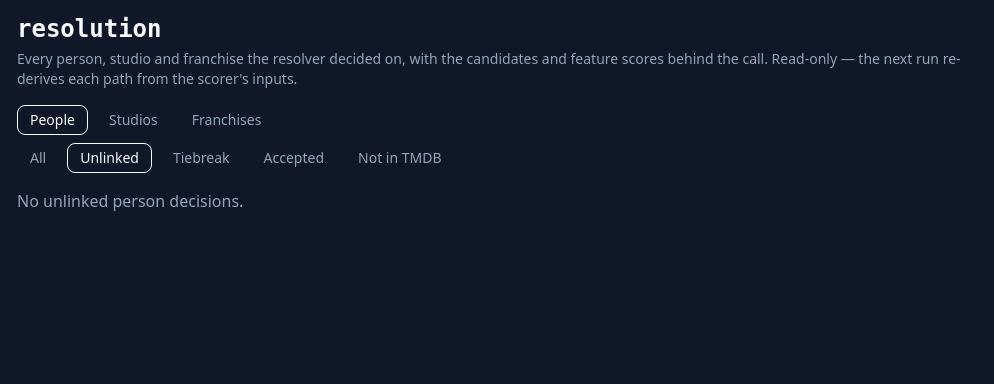
Scenario: AdminResolution › opens on the unlinked queue D-25 asks for, with a filter-aware empty state
The width and height of the screenshot is (994, 384).
Expected: the text "No unlinked person decisions." is shown, [17,190,243,212]
Click the tab "All". click: (38, 158)
box: [17,143,59,173]
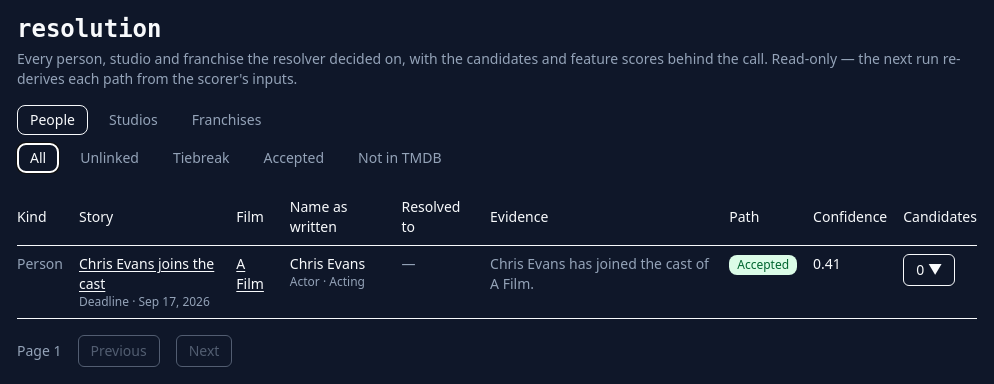
Expected: the text "Chris Evans" is shown, [290,254,365,273]
